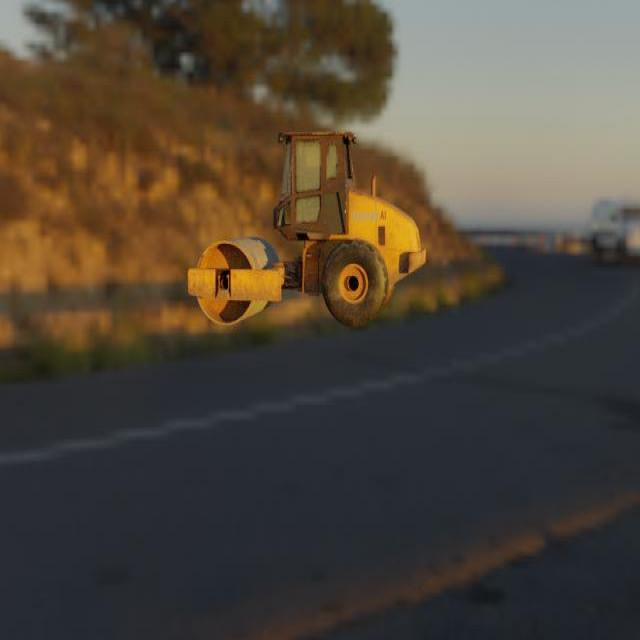Roller: (187, 129, 426, 327)
